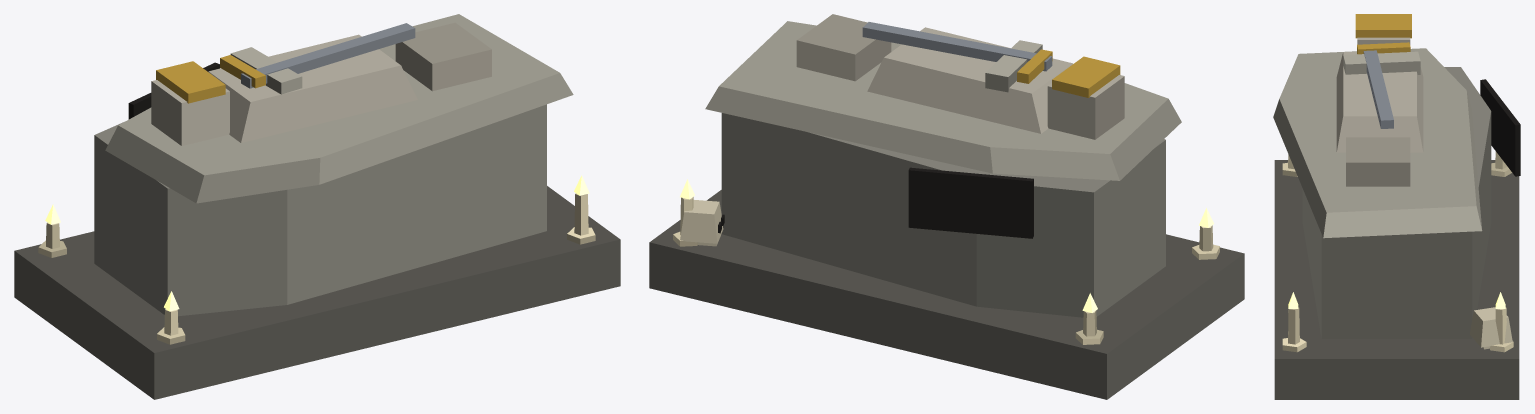
The model's file is crypt_sarcophagus.glb.
3 renders of one model, left to right at view 1: azimuth 30°, elevation 25°; view 2: azimuth 150°, elevation 25°; view 3: azimuth 270°, elevation 25°, orthographic. The views are drawn at different scales.
Visible parts, largest first — view 1: crypt_sarcophagus; view 2: crypt_sarcophagus; view 3: crypt_sarcophagus.
Boxes of the visible parts, bbox=[...] form: crypt_sarcophagus: bbox=[14, 14, 620, 399]; crypt_sarcophagus: bbox=[649, 14, 1244, 399]; crypt_sarcophagus: bbox=[1273, 14, 1520, 399].
Size of the model in its own units: 2.5 by 1.29 by 1.31.
